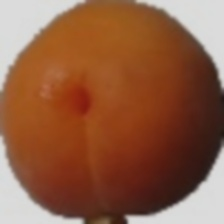apricot: (50, 28, 203, 199)
